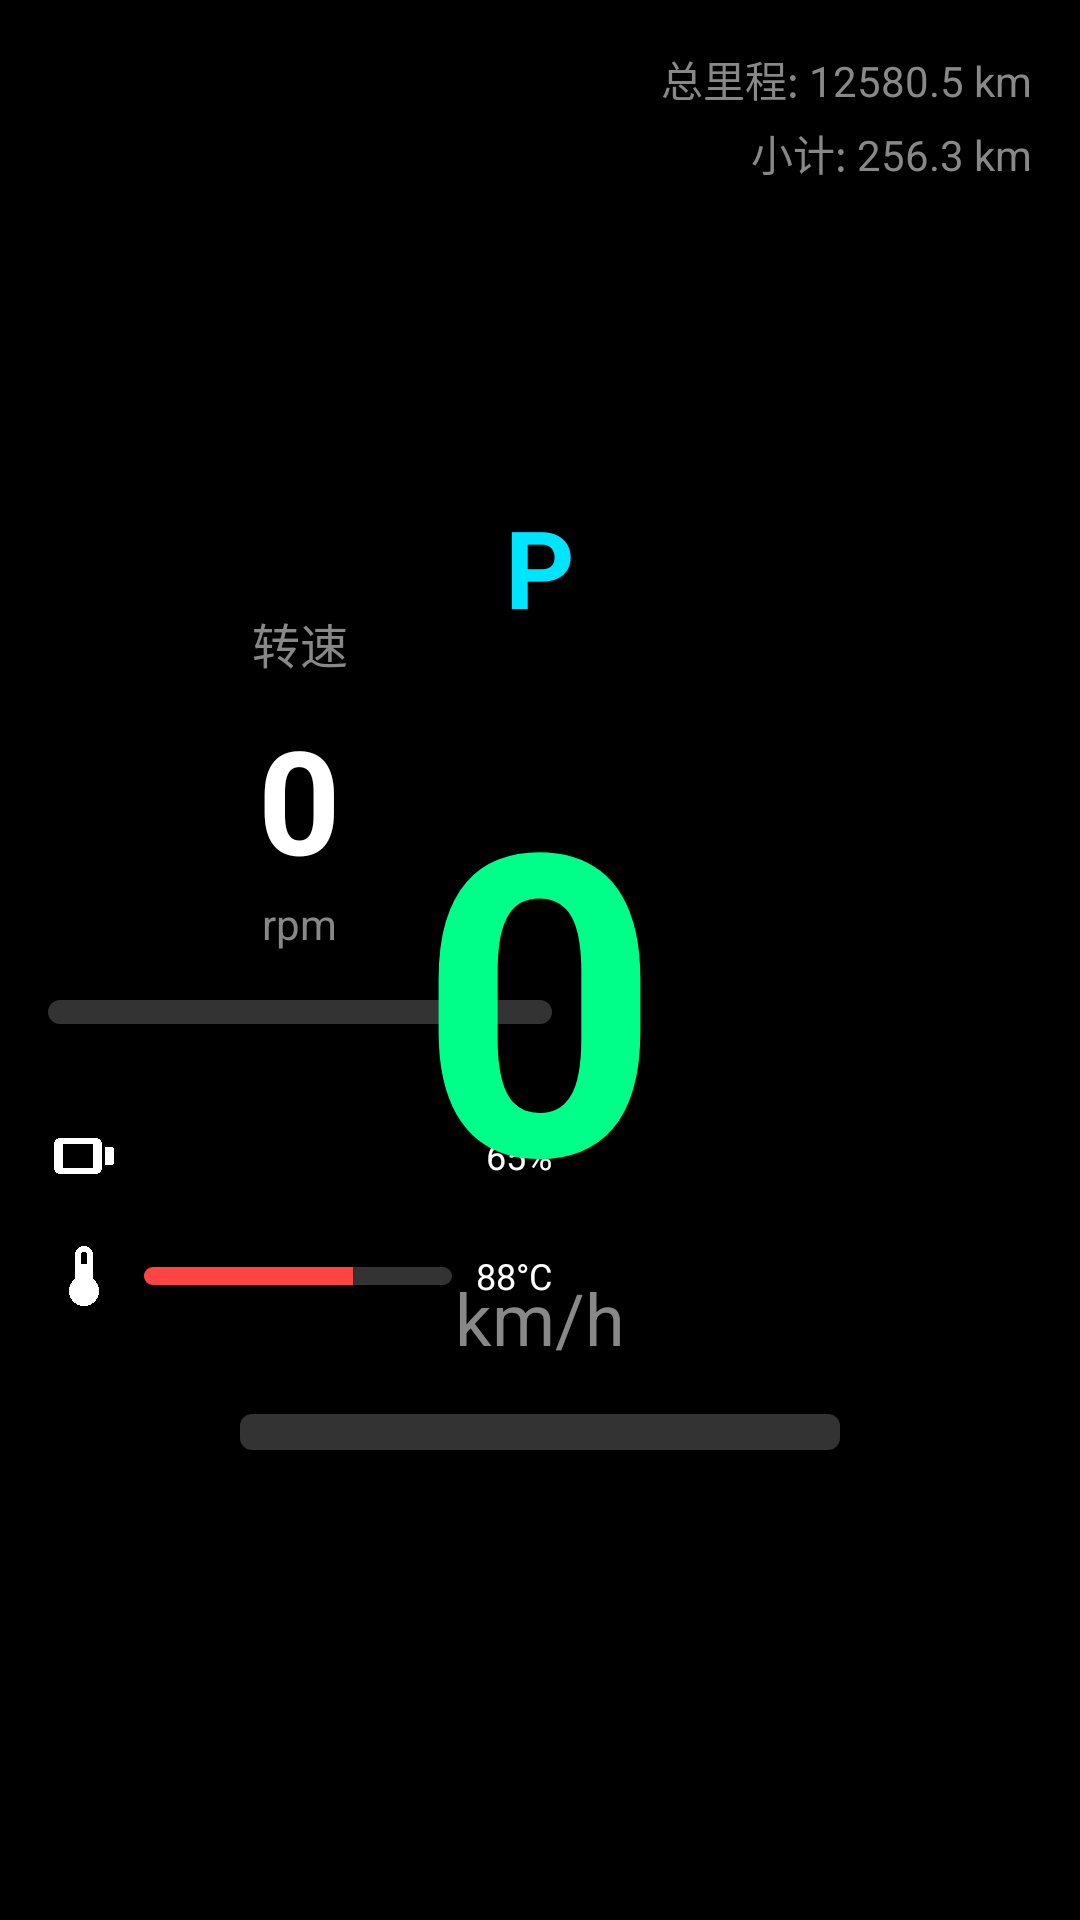

Screen size 1080×1920. Icon name, then its center in pixels as [x,y]:
battery: [84,1156]
temperature: [84,1276]
